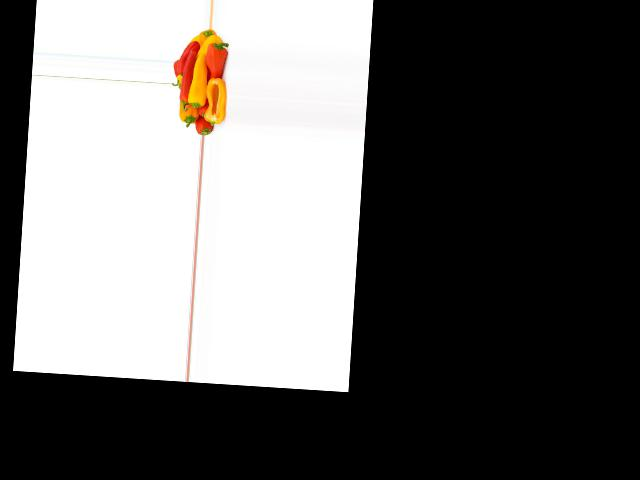bell_pepper: (191, 104, 214, 136)
